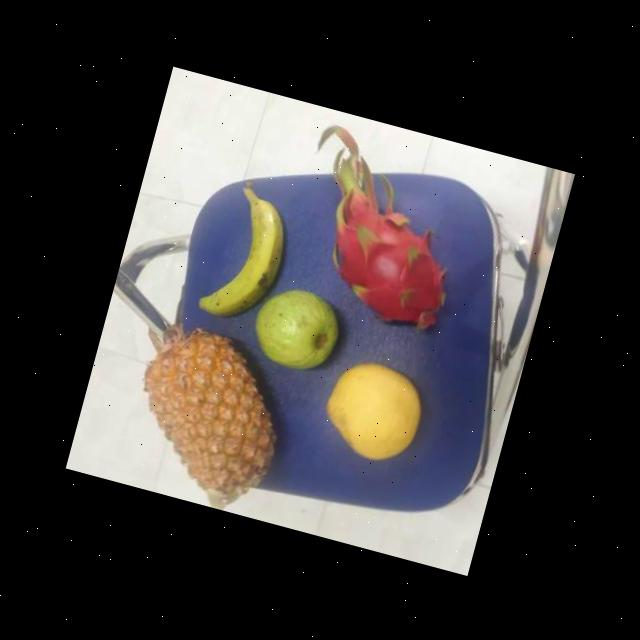banana: (185, 184, 298, 332)
guava: (246, 278, 348, 378)
pear: (312, 352, 429, 473)
pineapple: (116, 324, 293, 512)
pitaya: (311, 178, 471, 344)
